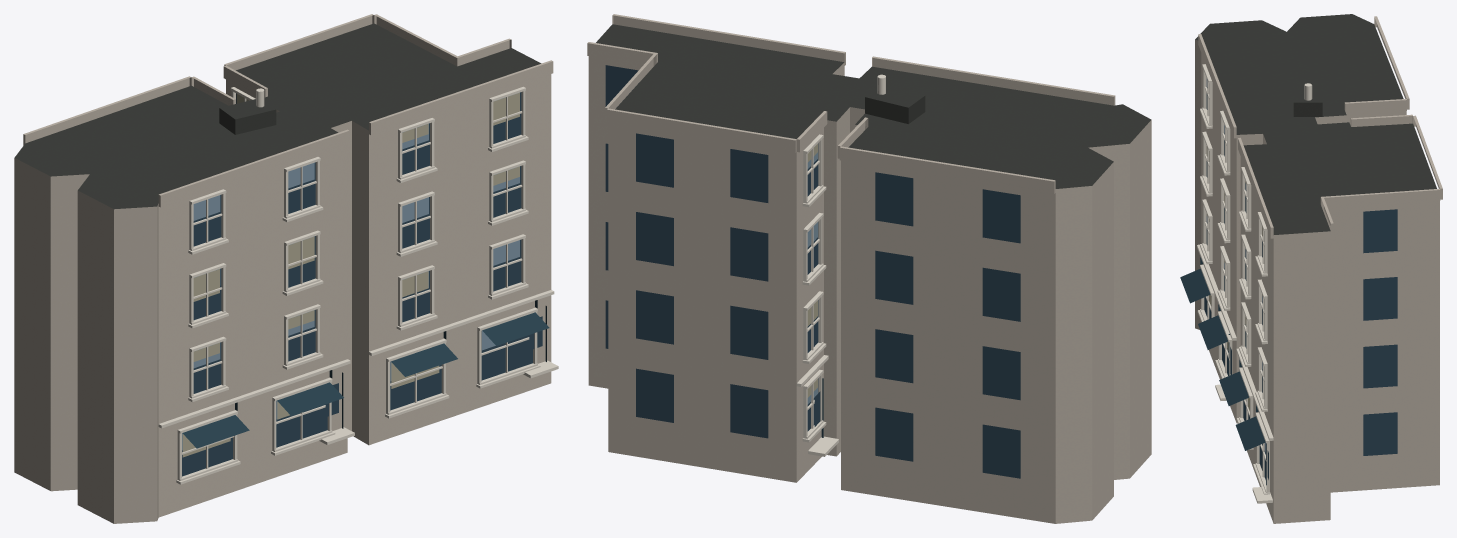
The picture shows the model from 3 angles, left to right: view 1: azimuth 30°, elevation 25°; view 2: azimuth 150°, elevation 25°; view 3: azimuth 270°, elevation 25°; orthographic projection. The views are drawn at different scales.
Parts seen in each view (by area): view 1: Footprint 0 / surface 2, Footprint 0 / surface 1, Cornices and window frames, Inset glazing, Facade bay volumes, Storefronts and doors, Interior blind variation, Sky reflection panels, Inferred rooftop service enclosure / surface 5; view 2: Footprint 0 / surface 2, Footprint 0 / surface 1, Inset glazing, Facade bay volumes, Cornices and window frames, Inferred rooftop service enclosure / surface 6, Inferred rooftop service enclosure / surface 3; view 3: Footprint 0 / surface 2, Footprint 0 / surface 1, Cornices and window frames, Inset glazing, Facade bay volumes, Storefronts and doors, Inferred rooftop service enclosure / surface 3, Inferred rooftop service enclosure / surface 1.
Boxes of the visible parts, x1=… form: Footprint 0 / surface 2: x1=14, y1=74, x2=551, y2=523; Footprint 0 / surface 1: x1=14, y1=23, x2=541, y2=209; Cornices and window frames: x1=158, y1=86, x2=558, y2=484; Inset glazing: x1=182, y1=92, x2=542, y2=476; Facade bay volumes: x1=23, y1=14, x2=553, y2=207; Storefronts and doors: x1=182, y1=300, x2=549, y2=448; Interior blind variation: x1=182, y1=93, x2=519, y2=457; Sky reflection panels: x1=182, y1=92, x2=519, y2=450; Inferred rooftop service enclosure / surface 5: x1=235, y1=109, x2=276, y2=134; Footprint 0 / surface 2: x1=588, y1=56, x2=1151, y2=523; Footprint 0 / surface 1: x1=596, y1=24, x2=1151, y2=188; Inset glazing: x1=605, y1=65, x2=1020, y2=478; Facade bay volumes: x1=587, y1=14, x2=1115, y2=194; Cornices and window frames: x1=796, y1=134, x2=838, y2=456; Inferred rooftop service enclosure / surface 6: x1=865, y1=97, x2=908, y2=123; Inferred rooftop service enclosure / surface 3: x1=865, y1=86, x2=924, y2=107; Footprint 0 / surface 2: x1=1195, y1=39, x2=1439, y2=523; Footprint 0 / surface 1: x1=1195, y1=14, x2=1436, y2=234; Cornices and window frames: x1=1197, y1=64, x2=1273, y2=503; Inset glazing: x1=1204, y1=86, x2=1397, y2=479; Facade bay volumes: x1=1198, y1=16, x2=1442, y2=238; Storefronts and doors: x1=1180, y1=257, x2=1266, y2=485; Inferred rooftop service enclosure / surface 3: x1=1293, y1=84, x2=1322, y2=102; Inferred rooftop service enclosure / surface 1: x1=1293, y1=102, x2=1322, y2=116.
Size of the model in its own units: 21.7 by 14.49 by 10.88.
